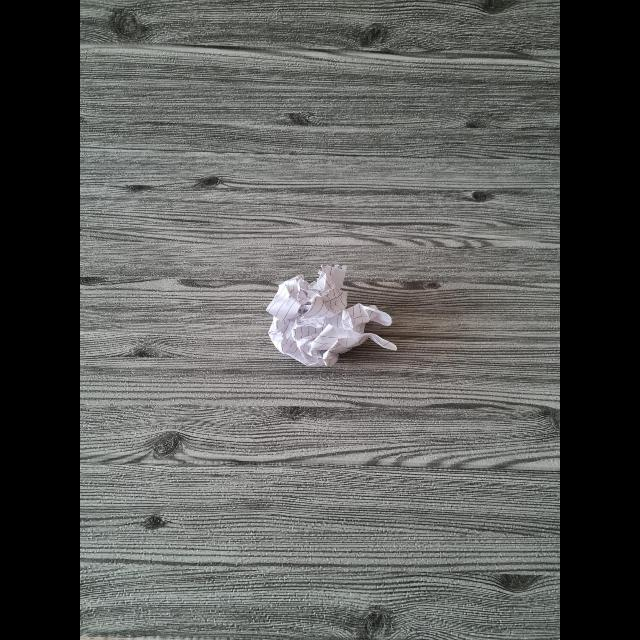scrap_paper: (266, 270, 394, 364)
